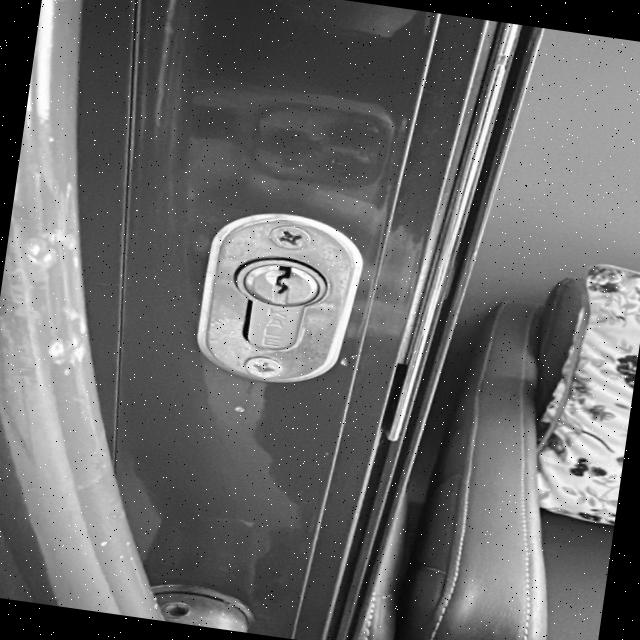Phillips: (266, 224, 320, 256), (241, 356, 288, 384)
